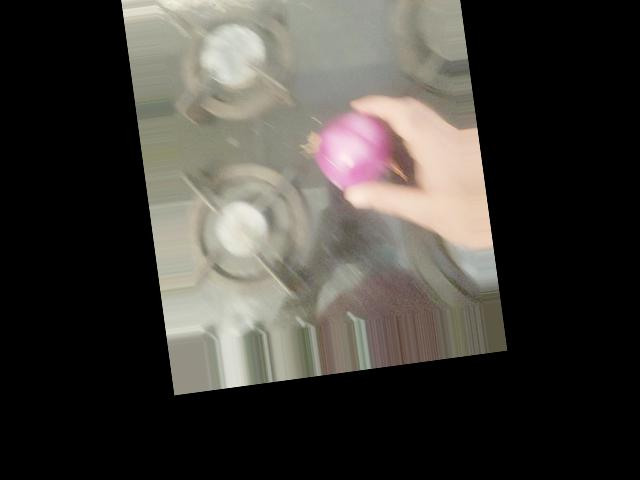onion: (309, 102, 404, 196)
